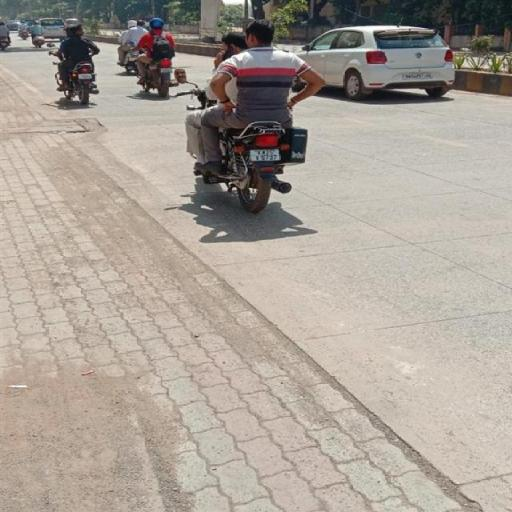numberplate: (250, 148, 282, 163)
using mobile: (216, 42, 237, 64)
